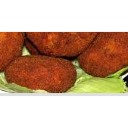cutlet: (7, 55, 75, 92), (80, 42, 128, 78), (25, 30, 94, 55)
